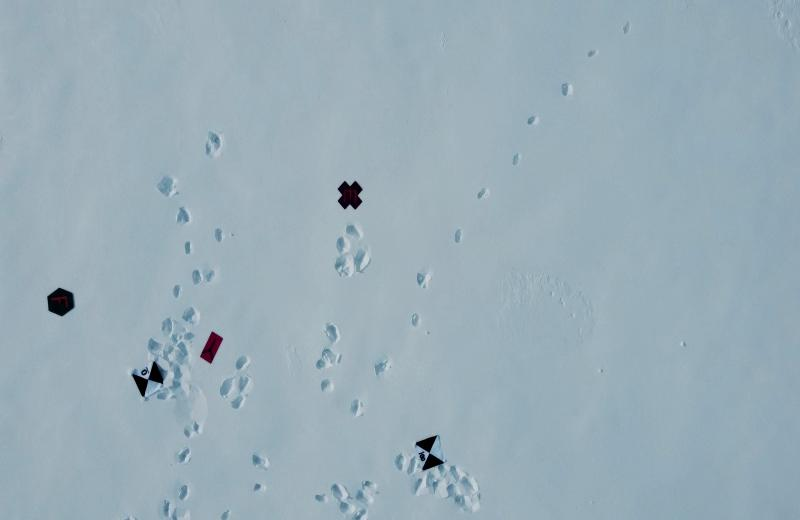Cross: (334, 176, 365, 213)
Hexagon: (44, 286, 77, 319)
Rectangle: (196, 328, 224, 365)
